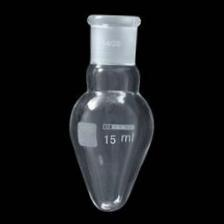Pear shaped flask: (63, 16, 156, 208)
